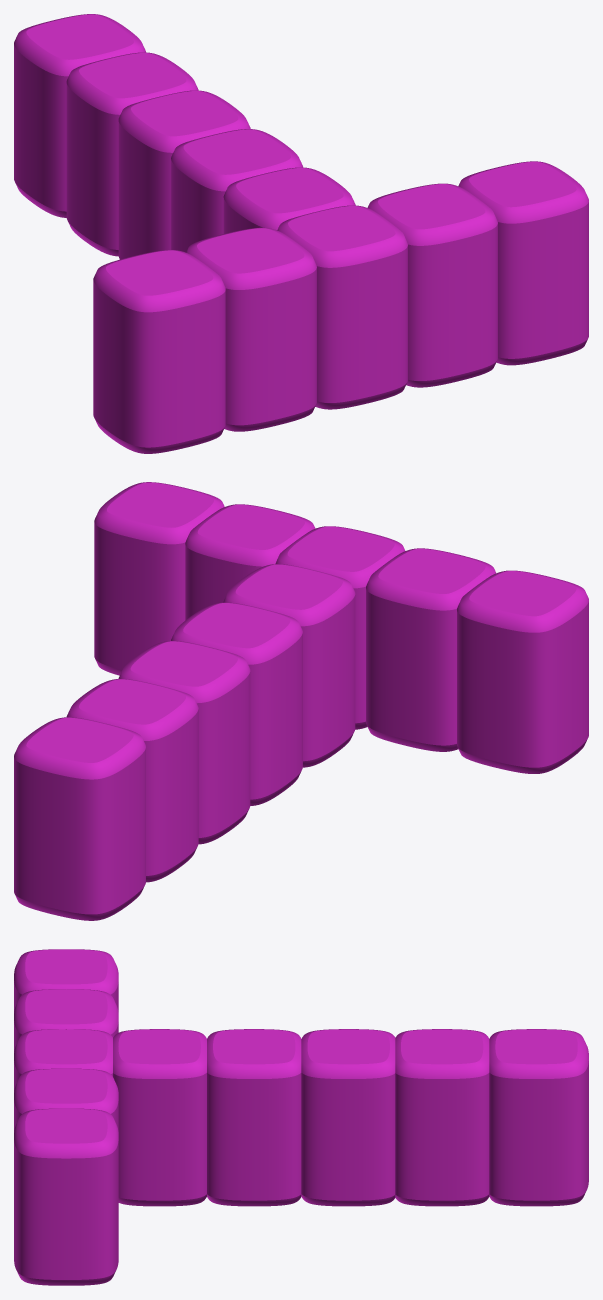
Rendered from Letter_T.fbx.
3 renders of one model, top to bottom at view 1: azimuth 30°, elevation 25°; view 2: azimuth 150°, elevation 25°; view 3: azimuth 270°, elevation 25°, orthographic. The views are drawn at different scales.
Visible parts, largest first — view 1: Letter_T; view 2: Letter_T; view 3: Letter_T.
Part boxes in pixels (x1=…): Letter_T: x1=14, y1=14, x2=588, y2=453; Letter_T: x1=14, y1=482, x2=588, y2=920; Letter_T: x1=14, y1=949, x2=588, y2=1285.
Bounding box in the file's own units: 0.4311 × 0.14 × 0.5146.
